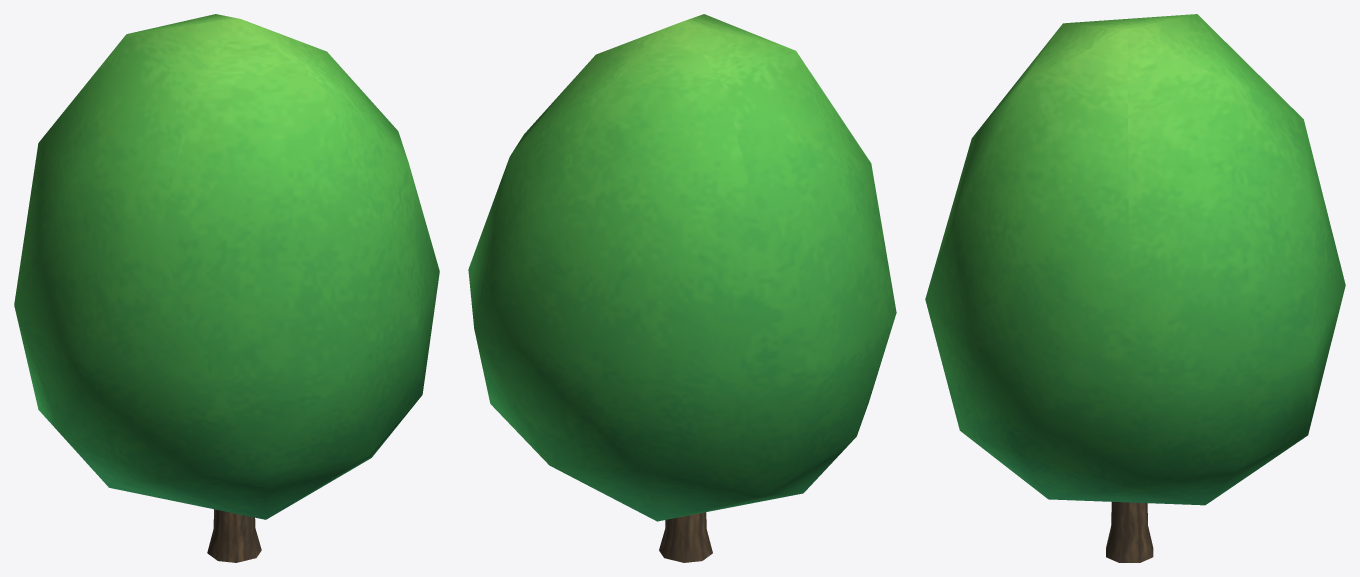
Rendered from Tree_Oak_1.fbx.
The picture shows the model from 3 angles, left to right: view 1: azimuth 30°, elevation 25°; view 2: azimuth 150°, elevation 25°; view 3: azimuth 270°, elevation 25°; orthographic projection.
Parts seen in each view (by area): view 1: Icosphere.082, Cube.079; view 2: Icosphere.082, Cube.079; view 3: Icosphere.082, Cube.079.
Part boxes in pixels (left/top/right/bottom): Icosphere.082: left=14, top=14, right=439, bottom=519; Cube.079: left=207, top=509, right=261, bottom=562; Icosphere.082: left=468, top=14, right=896, bottom=521; Cube.079: left=659, top=512, right=712, bottom=562; Icosphere.082: left=925, top=14, right=1345, bottom=505; Cube.079: left=1106, top=502, right=1153, bottom=562.
Size of the model in its own units: 337 by 463 by 336.
Materials: 2 (2 with a texture image).
